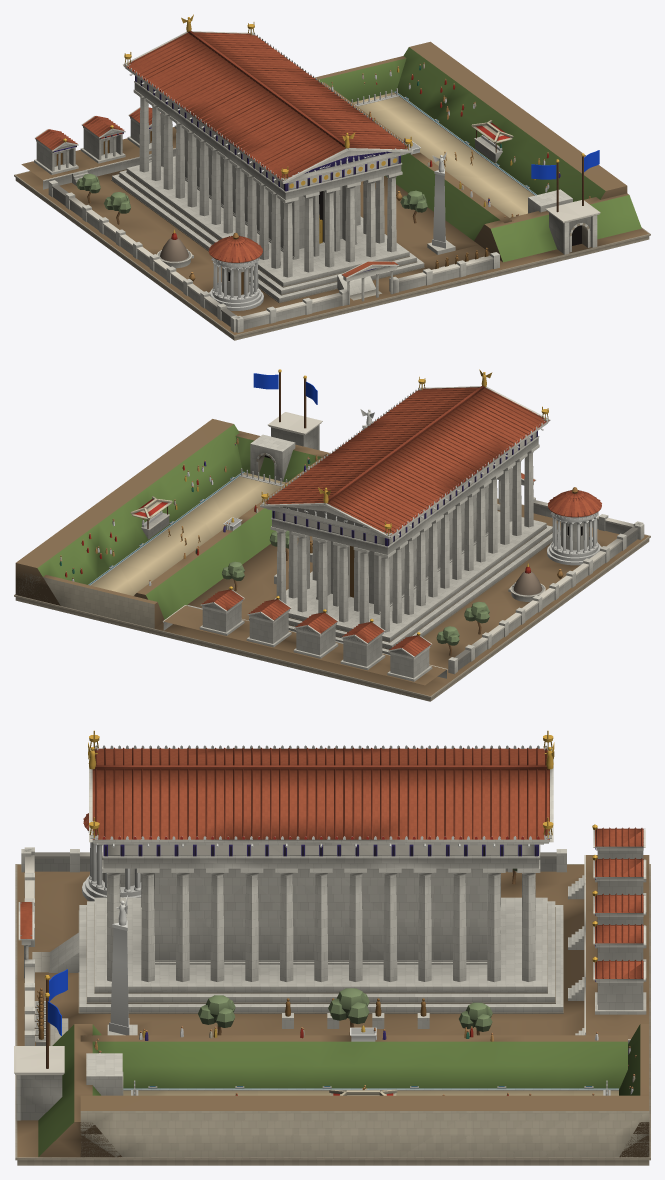
The model's file is lm_olimpia.glb.
The picture shows the model from 3 angles, top to bottom: view 1: azimuth 30°, elevation 25°; view 2: azimuth 150°, elevation 25°; view 3: azimuth 270°, elevation 25°; orthographic projection. The views are drawn at different scales.
Visible parts, largest first — view 1: lm_olimpia; view 2: lm_olimpia; view 3: lm_olimpia.
Part boxes in pixels (<box>): lm_olimpia: <box>14,14,650,340</box>; lm_olimpia: <box>14,369,650,701</box>; lm_olimpia: <box>14,730,650,1165</box>.
Bounding box in the file's own units: 2.31 × 0.8211 × 2.12.
1 material, 1 textured.
